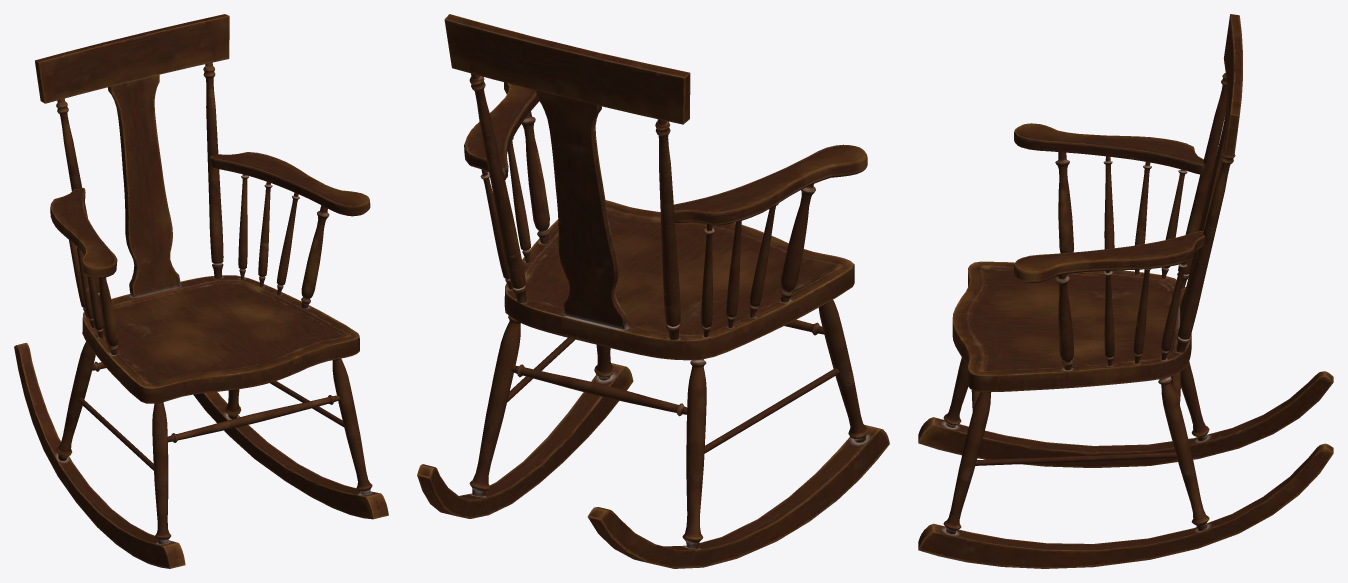
The model's file is Rockingchair_01_1k.gltf.
3 views of the same model, side by side, from view 1: azimuth 30°, elevation 25°; view 2: azimuth 150°, elevation 25°; view 3: azimuth 270°, elevation 25° (orthographic). The views are drawn at different scales.
Parts seen in each view (by area): view 1: Rockingchair_01; view 2: Rockingchair_01; view 3: Rockingchair_01.
Part boxes in pixels (bbox=[...]): Rockingchair_01: bbox=[14, 14, 388, 568]; Rockingchair_01: bbox=[417, 14, 889, 568]; Rockingchair_01: bbox=[918, 14, 1333, 568].
Bounding box in the file's own units: 0.7081 × 0.9949 × 0.8335.
1 material, 1 textured.
